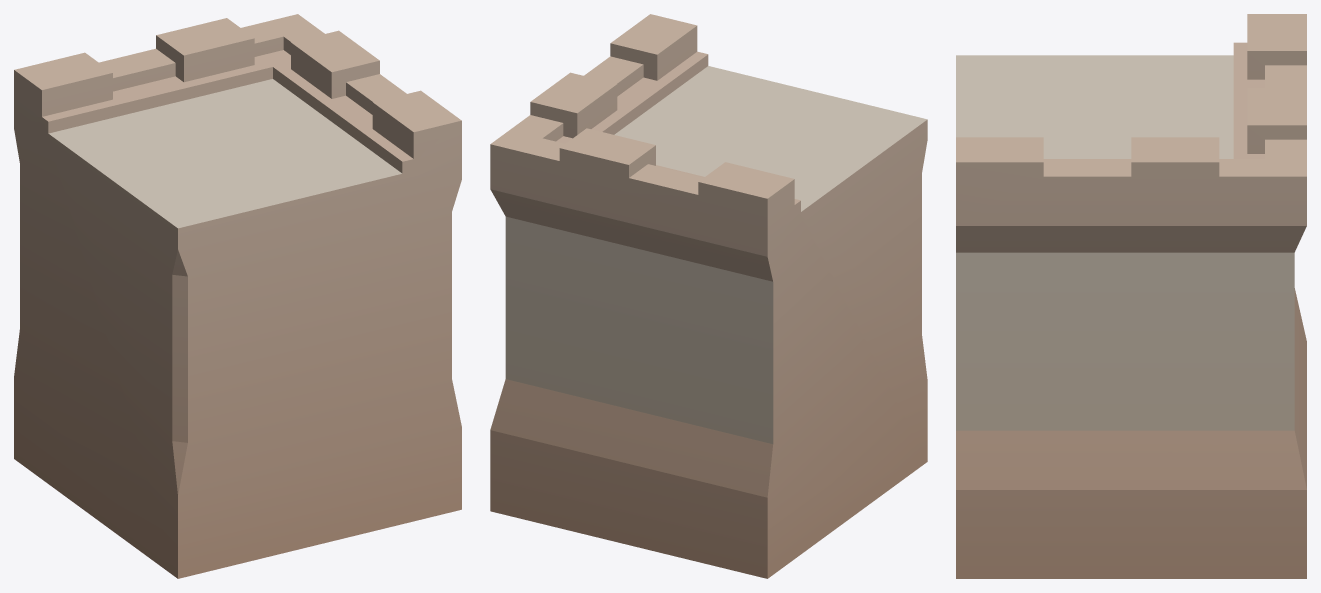
The model's file is wall-corner-half.glb.
3 renders of one model, left to right at view 1: azimuth 30°, elevation 25°; view 2: azimuth 150°, elevation 25°; view 3: azimuth 270°, elevation 25°, orthographic. The views are drawn at different scales.
Parts seen in each view (by area): view 1: wall-corner-half; view 2: wall-corner-half; view 3: wall-corner-half.
Boxes of the visible parts, left/top/right/bottom form: wall-corner-half: left=14, top=14, right=461, bottom=578; wall-corner-half: left=490, top=14, right=927, bottom=578; wall-corner-half: left=956, top=14, right=1306, bottom=578.
Bounding box in the file's own units: 1 × 1.31 × 1.
